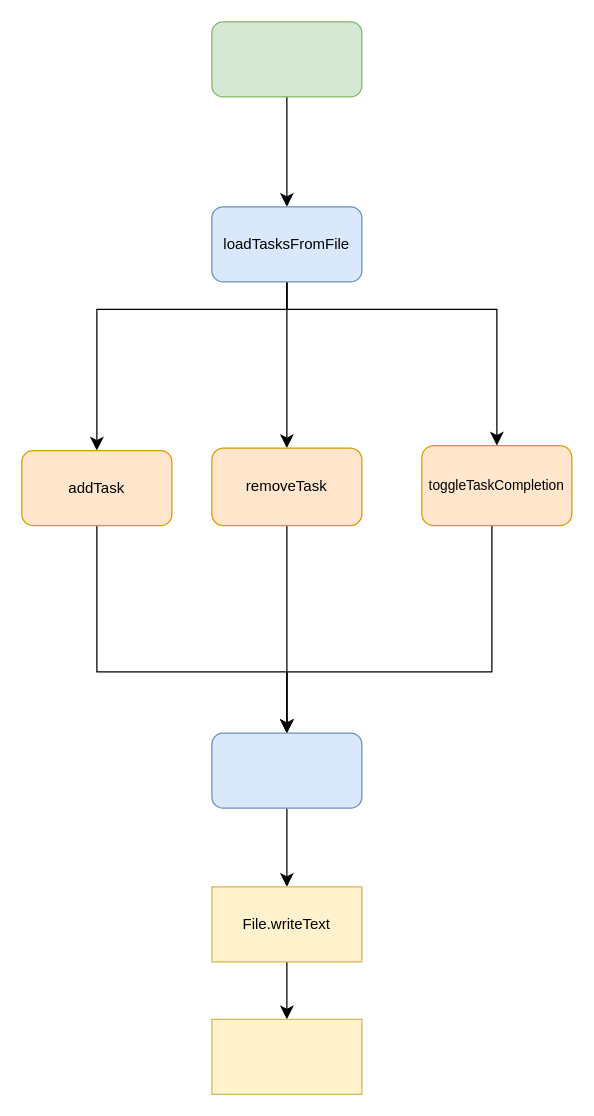
The diagram is 594 pixels wide and 1116 high, and some of its shapes have lost their labels. Here are the shapes that lost their labels. From the top down, the centre of each, then its label:
At point (286, 59): "Main".
At point (286, 770): "saveTasksToFile".
At point (286, 1056): "File.appendText".
